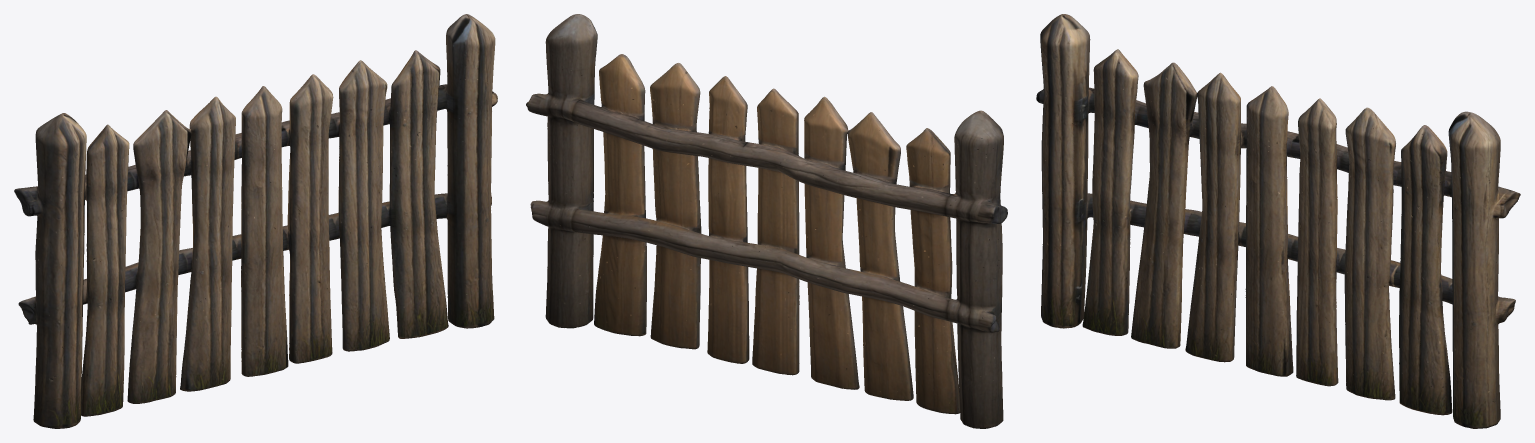
The model's file is weidezaun_original.glb.
3 views of the same model, side by side, from view 1: azimuth 30°, elevation 25°; view 2: azimuth 150°, elevation 25°; view 3: azimuth 330°, elevation 25° (orthographic).
Size of the model in its own units: 2.01 by 1.26 by 0.2372.
1 material, 1 textured.
